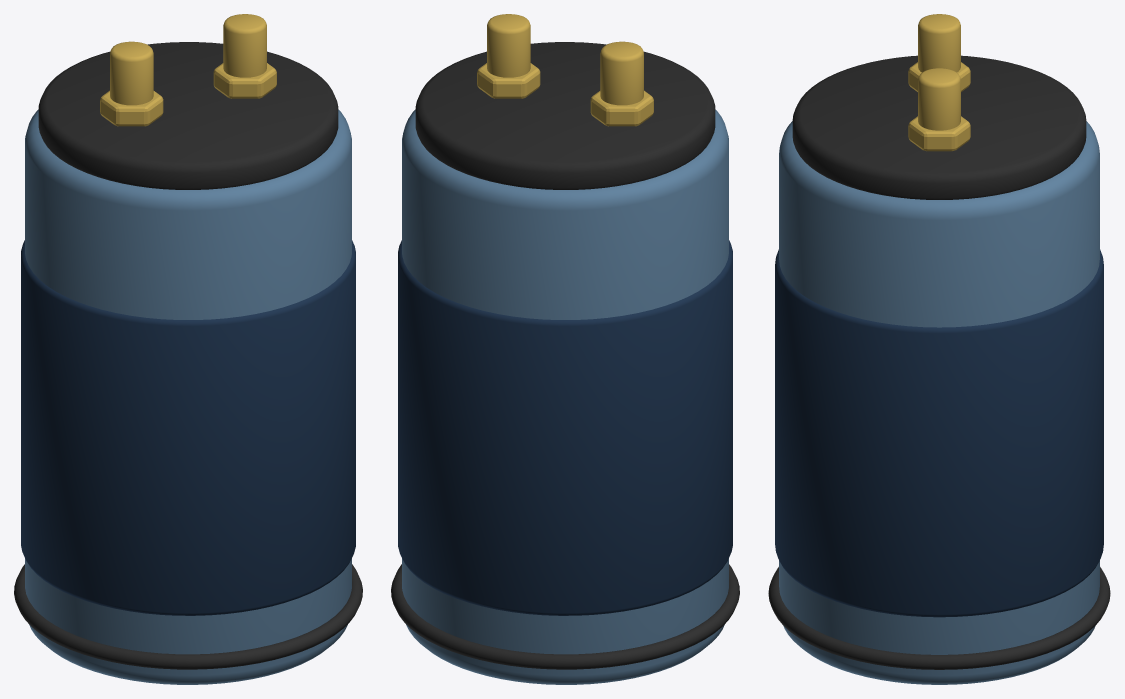
File: salvage_capacitor.glb
The picture shows the model from 3 angles, left to right: view 1: azimuth 30°, elevation 25°; view 2: azimuth 150°, elevation 25°; view 3: azimuth 270°, elevation 25°; orthographic projection. The views are drawn at different scales.
Parts seen in each view (by area): view 1: Cylinder.001, Cylinder, Cylinder.002, Torus, Cylinder.003, Cylinder.005, Cylinder.004, Cylinder.006; view 2: Cylinder.001, Cylinder, Cylinder.002, Torus, Cylinder.003, Cylinder.005, Cylinder.004, Cylinder.006; view 3: Cylinder.001, Cylinder, Cylinder.002, Torus, Cylinder.005, Cylinder.003, Cylinder.006.
Part boxes in pixels (<box>): Cylinder.001: <box>21,240,355,615</box>; Cylinder: <box>25,109,351,684</box>; Cylinder.002: <box>38,42,338,189</box>; Torus: <box>14,564,362,669</box>; Cylinder.003: <box>110,41,153,105</box>; Cylinder.005: <box>223,14,266,77</box>; Cylinder.004: <box>100,90,163,126</box>; Cylinder.006: <box>213,63,276,98</box>; Cylinder.001: <box>398,240,732,615</box>; Cylinder: <box>402,109,728,684</box>; Cylinder.002: <box>415,42,715,189</box>; Torus: <box>391,564,739,669</box>; Cylinder.003: <box>600,41,643,105</box>; Cylinder.005: <box>487,14,530,77</box>; Cylinder.004: <box>590,90,653,126</box>; Cylinder.006: <box>477,63,540,98</box>; Cylinder.001: <box>775,249,1103,617</box>; Cylinder: <box>779,121,1099,684</box>; Cylinder.002: <box>792,55,1086,199</box>; Torus: <box>768,567,1110,669</box>; Cylinder.005: <box>918,68,960,130</box>; Cylinder.003: <box>918,14,960,72</box>; Cylinder.006: <box>908,116,970,151</box>.
Bounding box in the file's own units: 0.128 × 0.237 × 0.128.
